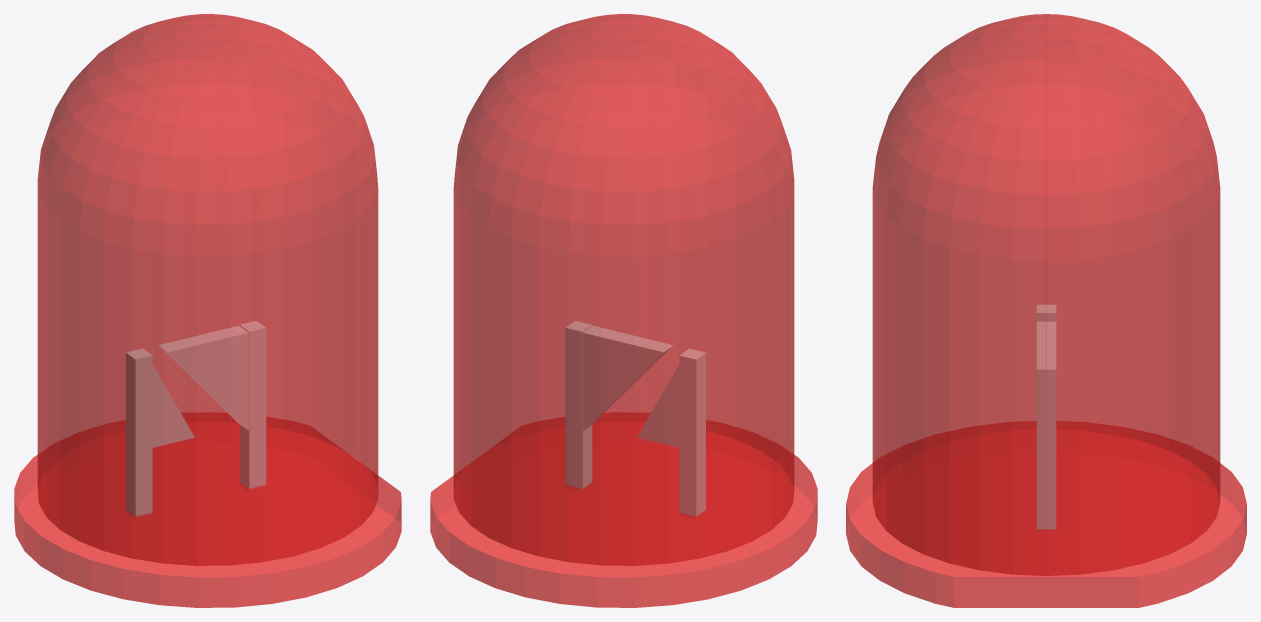
The model's file is led_top.obj.
3 views of the same model, side by side, from view 1: azimuth 30°, elevation 25°; view 2: azimuth 150°, elevation 25°; view 3: azimuth 270°, elevation 25° (orthographic).
Parts seen in each view (by area): view 1: Sphere, Cylinder.001, Cube.004, Cube.001, Cube.002, Cube.003; view 2: Sphere, Cylinder.001, Cube.004, Cube.001, Cube.002, Cube.003; view 3: Sphere, Cylinder.001, Cube.002, Cube.004.
Boxes of the visible parts, box(x1,y1,x2,y2) form: Sphere: box(37, 14, 378, 565); Cylinder.001: box(14, 413, 401, 607); Cube.004: box(159, 325, 248, 430); Cube.001: box(126, 348, 152, 517); Cube.002: box(239, 321, 266, 489); Cube.003: box(152, 365, 194, 447); Sphere: box(453, 14, 794, 565); Cylinder.001: box(430, 413, 817, 607); Cube.004: box(583, 325, 672, 430); Cube.001: box(679, 348, 705, 517); Cube.002: box(565, 321, 592, 489); Cube.003: box(637, 365, 679, 447); Sphere: box(872, 14, 1220, 575); Cylinder.001: box(846, 421, 1246, 607); Cube.002: box(1036, 361, 1056, 529); Cube.004: box(1036, 321, 1056, 361).
Size of the model in its own units: 2.13 by 3.2 by 2.31.
